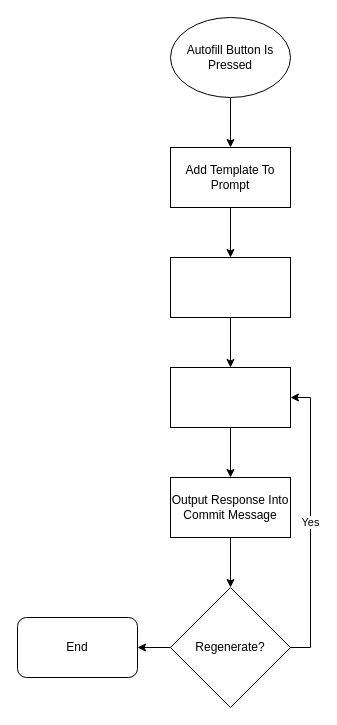
This 337x725 diagram has some shape labels left out. Here are the shapes that lost their labels. From the top down, the box of each, then its label:
(170, 256, 290, 318): Extract Diff and Context Of Code Snippet and add to Prompt
(170, 366, 290, 428): Pass Prompt Into LLM
